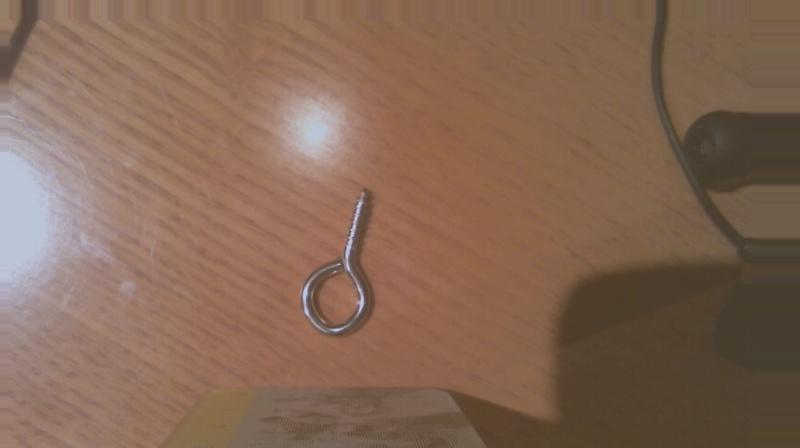O001: (297, 185, 380, 338)
